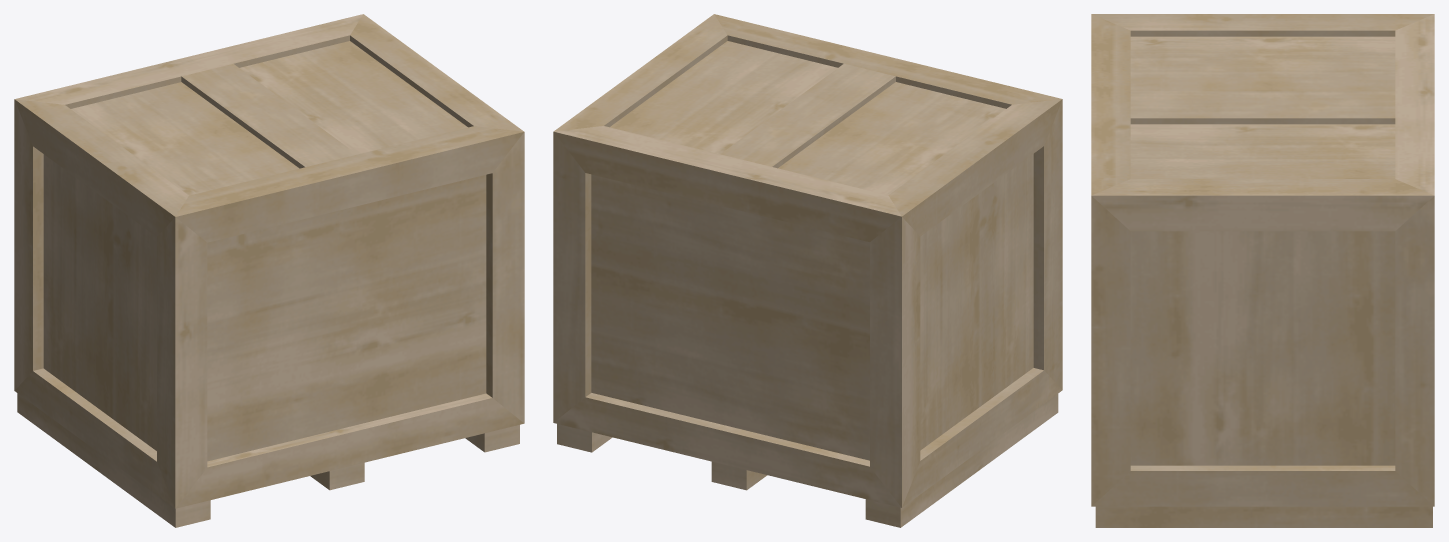
Rendered from cajon_bodega.glb.
3 views of the same model, side by side, from view 1: azimuth 30°, elevation 25°; view 2: azimuth 150°, elevation 25°; view 3: azimuth 270°, elevation 25° (orthographic). The views are drawn at different scales.
Visible parts, largest first — view 1: Crate_Crate_0; view 2: Crate_Crate_0; view 3: Crate_Crate_0.
Boxes of the visible parts, left/top/right/bottom form: Crate_Crate_0: left=14, top=14, right=524, bottom=527; Crate_Crate_0: left=553, top=14, right=1062, bottom=527; Crate_Crate_0: left=1091, top=14, right=1434, bottom=527.
Bounding box in the file's own units: 1.1 × 0.94 × 0.8764.
Materials: 1 (1 with a texture image).
